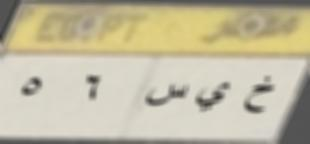5: (20, 74, 44, 102)
6: (83, 71, 104, 101)
khaa: (245, 72, 275, 120)
seen: (143, 79, 191, 111)
yaa: (193, 80, 229, 118)
